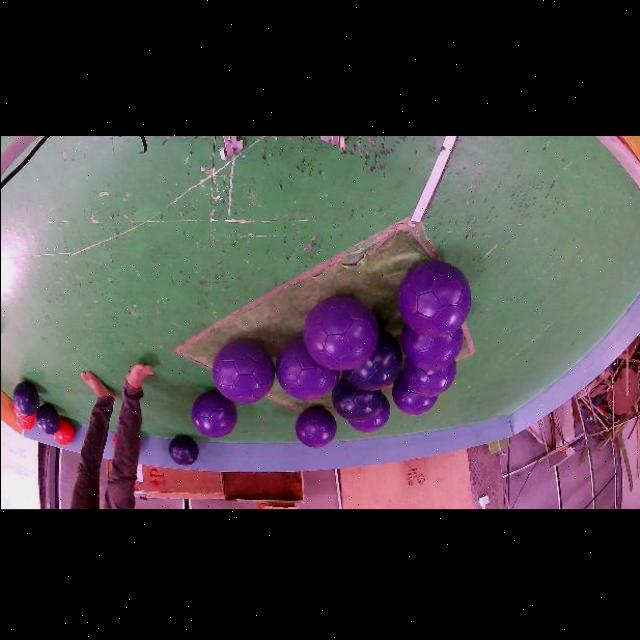B: (343, 329, 402, 391), (331, 378, 383, 422), (12, 381, 39, 416), (168, 435, 198, 465), (35, 404, 59, 435)
P: (398, 260, 470, 338), (304, 296, 379, 370), (276, 337, 339, 400), (211, 339, 273, 403), (402, 323, 463, 370), (191, 391, 237, 438), (403, 358, 456, 396), (295, 406, 337, 448), (392, 376, 437, 414), (348, 395, 390, 432)
R: (51, 418, 73, 445), (13, 410, 34, 430), (12, 404, 35, 422)
